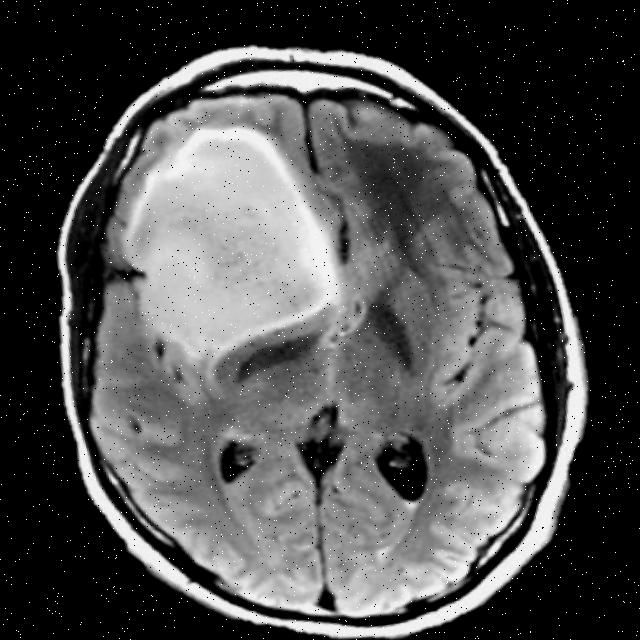Meningioma: (96, 94, 362, 387)
